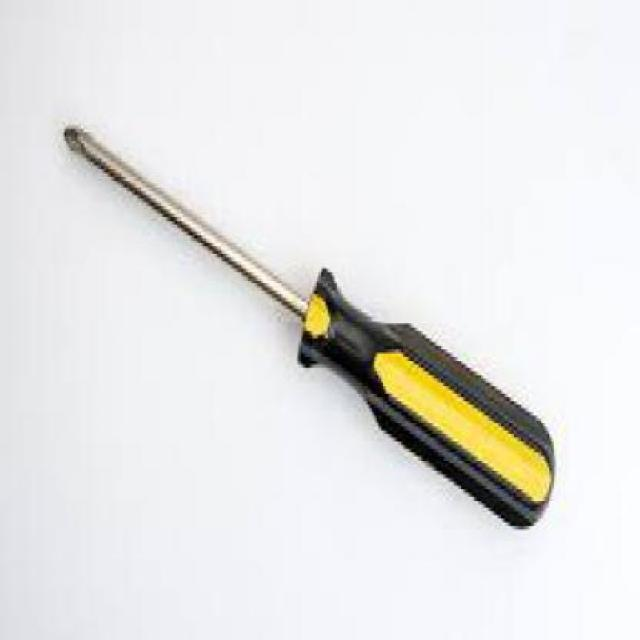screwdriver: (66, 128, 563, 534)
